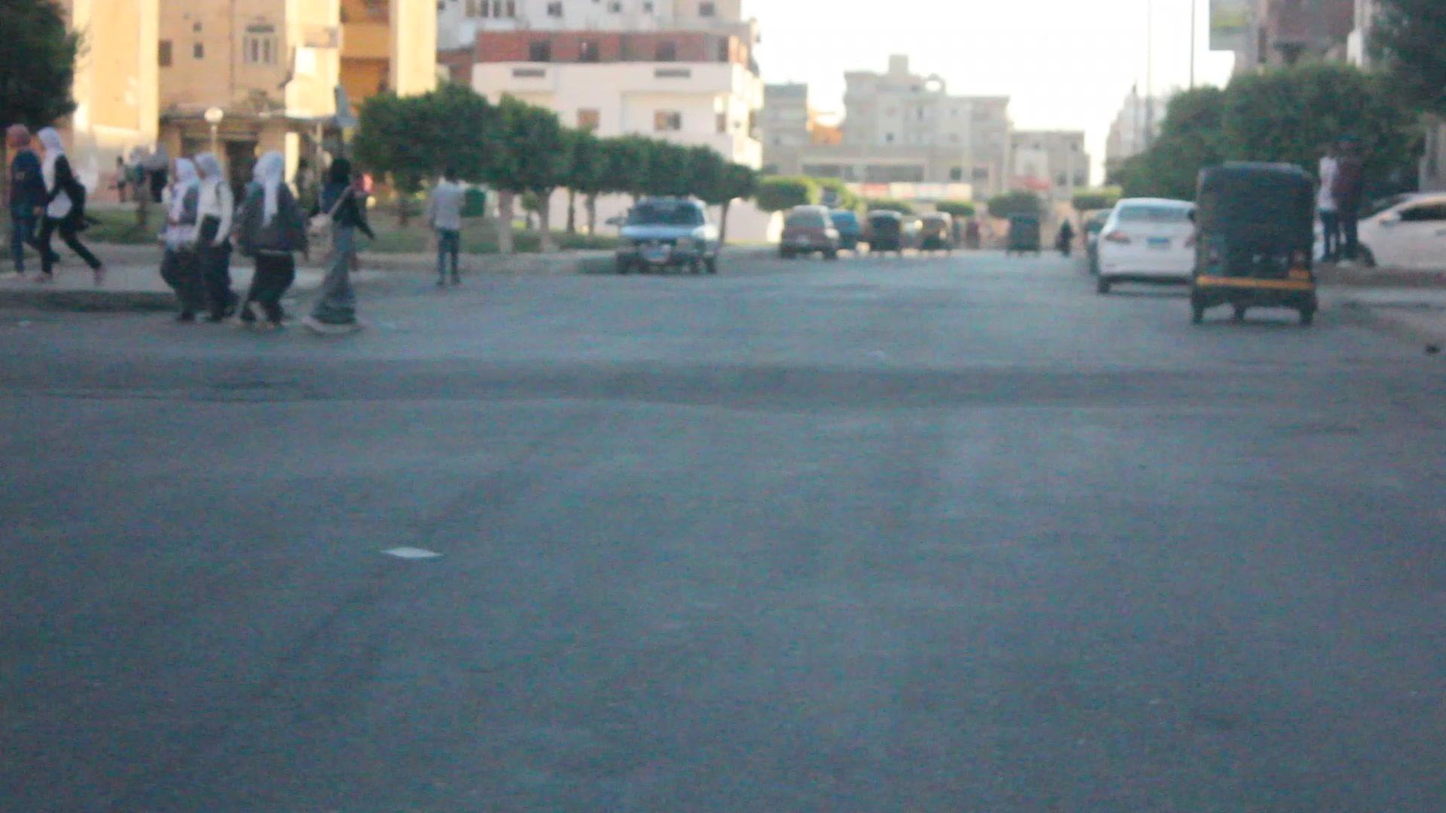Bump: (0, 331, 1446, 427)
